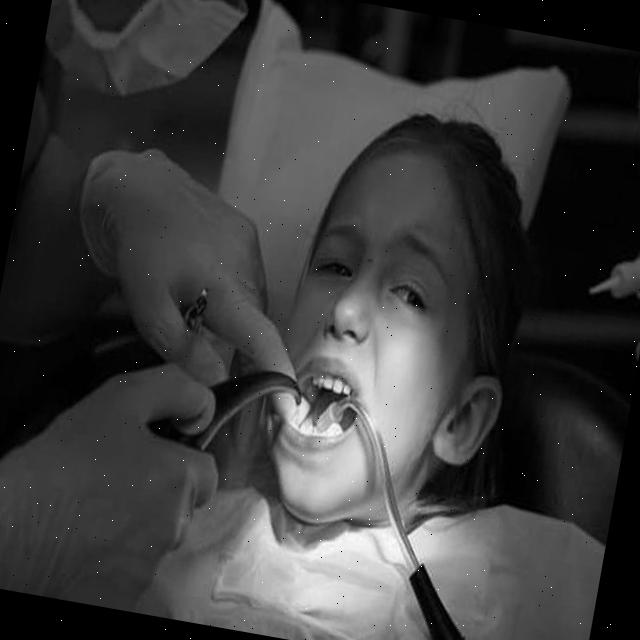Fear: (257, 134, 489, 536)
